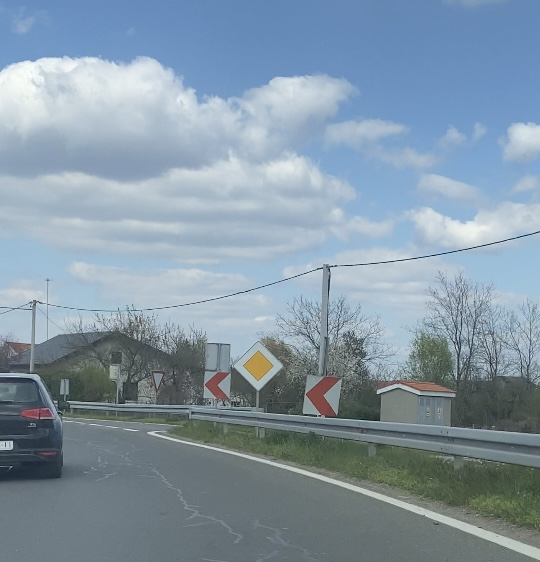Cesta s prednošću prolaska: (233, 341, 284, 391)
